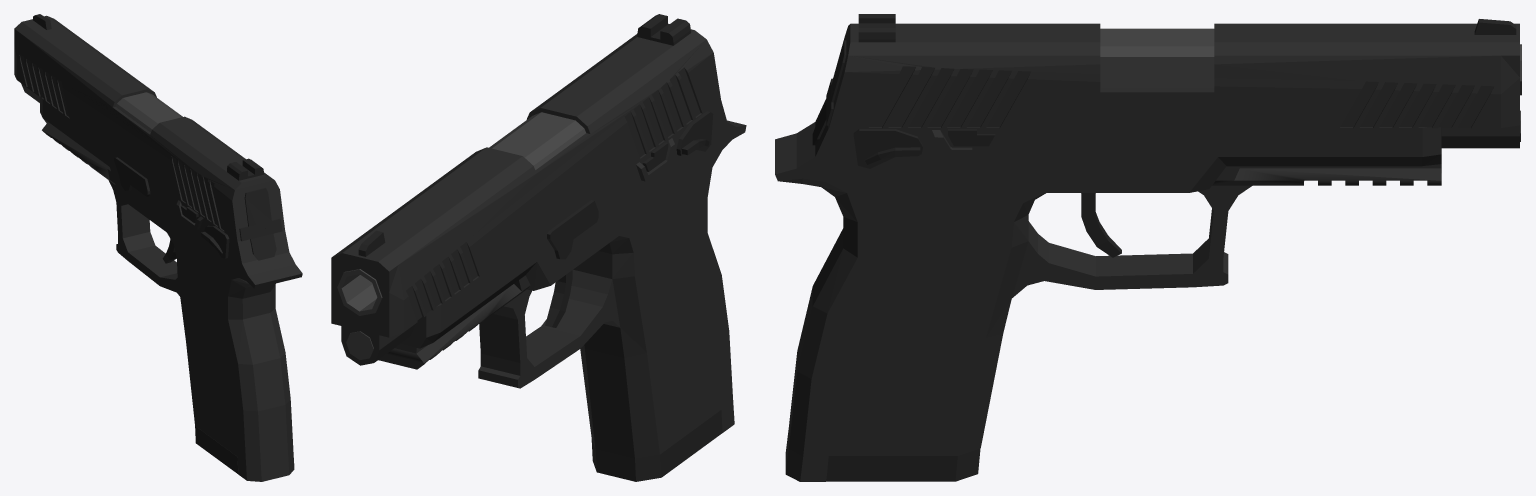
The picture shows the model from 3 angles, left to right: view 1: azimuth 30°, elevation 25°; view 2: azimuth 150°, elevation 25°; view 3: azimuth 270°, elevation 25°; orthographic projection. The views are drawn at different scales.
Visible parts, largest first — view 1: frame, slide, Barrel, Lower_Action, pic_rail, Magazine, Rotation, Safety, Rear_Sight; view 2: frame, slide, Barrel, Magazine, pic_rail, Rotation, Rear_Sight, Safety, Trigger, Barrel_Under, Housing_Left; view 3: frame, slide, Barrel, pic_rail, Magazine, Safety, Trigger, Rear_Sight.
Boxes of the visible parts, x1,y1,x2,y2 form: frame: (40,96,302,481); slide: (14,15,284,241); Barrel: (115,92,182,132); Lower_Action: (239,218,282,260); pic_rail: (42,124,115,184); Magazine: (195,426,238,473); Rotation: (114,157,150,196); Safety: (201,225,229,258); Rear_Sight: (227,158,263,180); frame: (400,100,746,458); slide: (331,23,720,365); Barrel: (337,112,585,315); Magazine: (591,410,722,481); pic_rail: (378,275,530,369); Rotation: (547,200,598,259); Rear_Sight: (637,14,690,45); Safety: (676,111,713,155); Trigger: (545,270,572,327); Barrel_Under: (346,331,373,359); Housing_Left: (636,138,674,181); frame: (775,99,1441,481); slide: (826,23,1519,148); Barrel: (1100,28,1521,95); pic_rail: (1212,164,1441,185); Magazine: (826,449,980,481); Safety: (853,129,922,168); Trigger: (1081,193,1121,257); Rear_Sight: (858,14,895,42).
Size of the model in its own units: 0.0149 by 0.0684 by 0.1044.
Materials: 1 (1 with a texture image).
